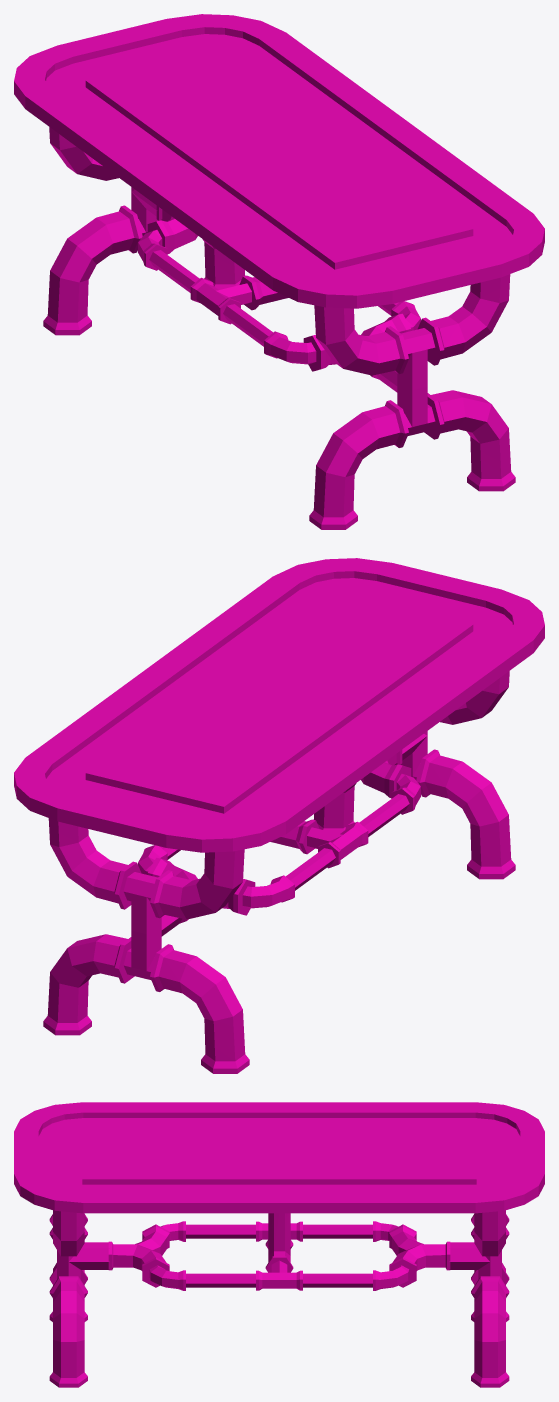
The model's file is Table.fbx.
The picture shows the model from 3 angles, top to bottom: view 1: azimuth 30°, elevation 25°; view 2: azimuth 150°, elevation 25°; view 3: azimuth 270°, elevation 25°; orthographic projection. The views are drawn at different scales.
Visible parts, largest first — view 1: table_end1:table_end1:table_end1:table_end1:Table; view 2: table_end1:table_end1:table_end1:table_end1:Table; view 3: table_end1:table_end1:table_end1:table_end1:Table.
Part boxes in pixels (x1,y1,x2,y2): table_end1:table_end1:table_end1:table_end1:Table: (14,14,544,529); table_end1:table_end1:table_end1:table_end1:Table: (14,558,544,1073); table_end1:table_end1:table_end1:table_end1:Table: (14,1102,544,1387).
Size of the model in its own units: 17.49 by 15.99 by 38.93.
